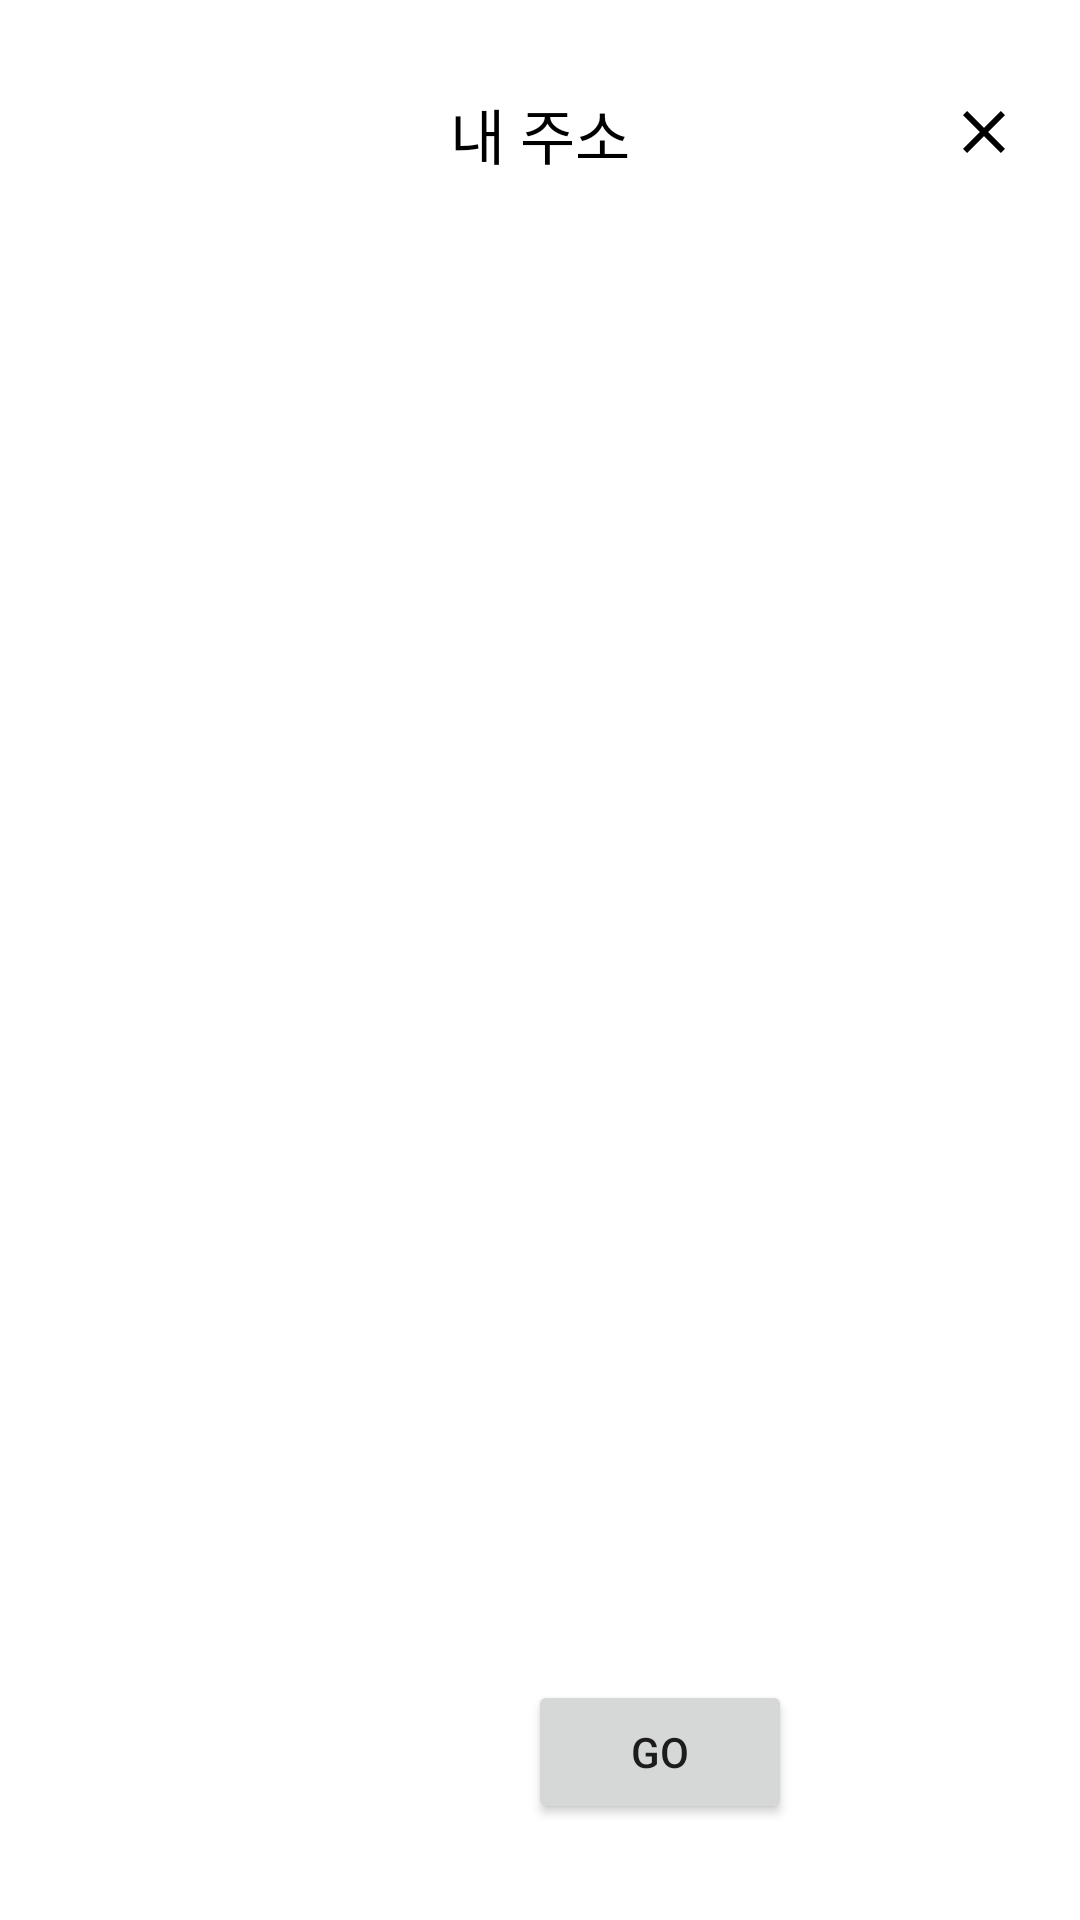

Screen size 1080px×1920px. Icon name, then its center in pixels as point (x, y):
close: point (984, 132)
